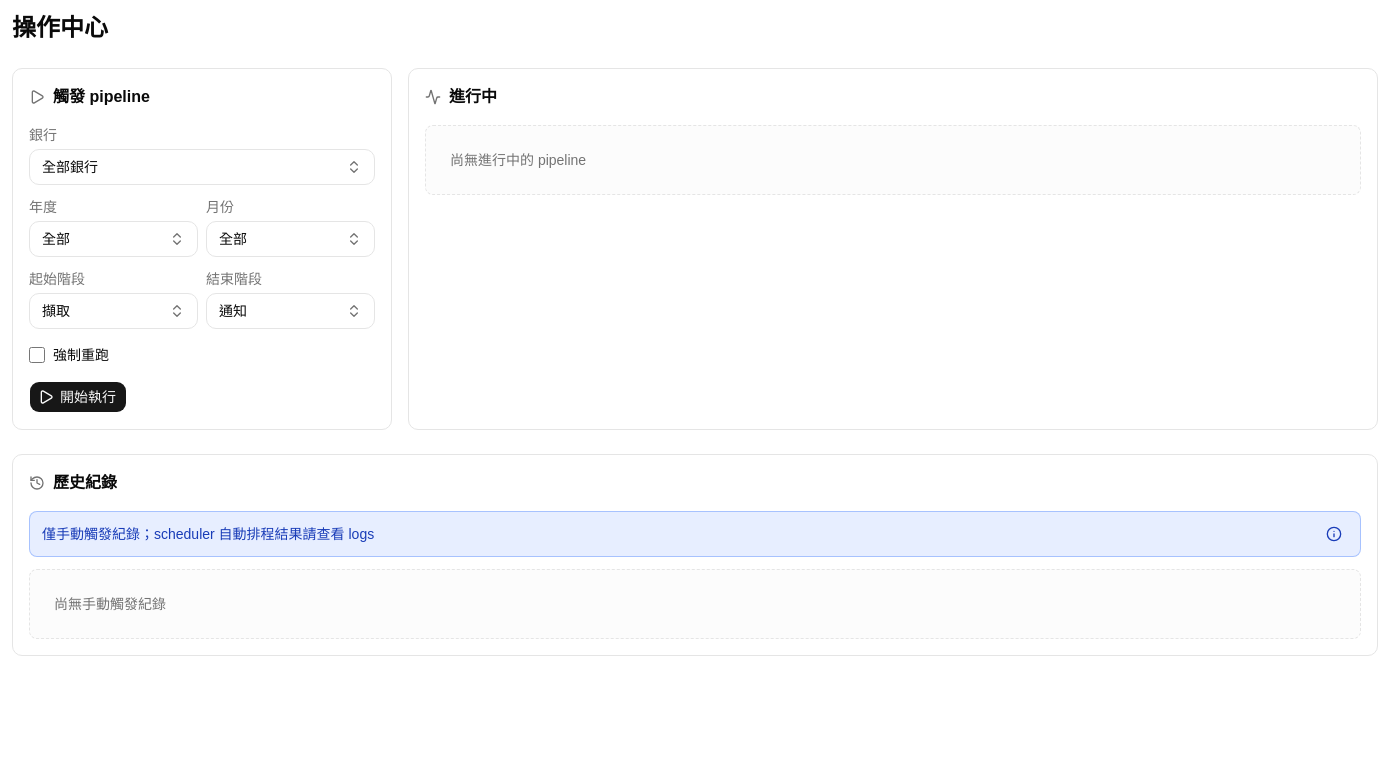
Test: OperationsPage coverage › falls back to no banks when the banks payload omits its data array
Click the dropdown labelled "銀行" at (70,167), box [29,149,375,185]
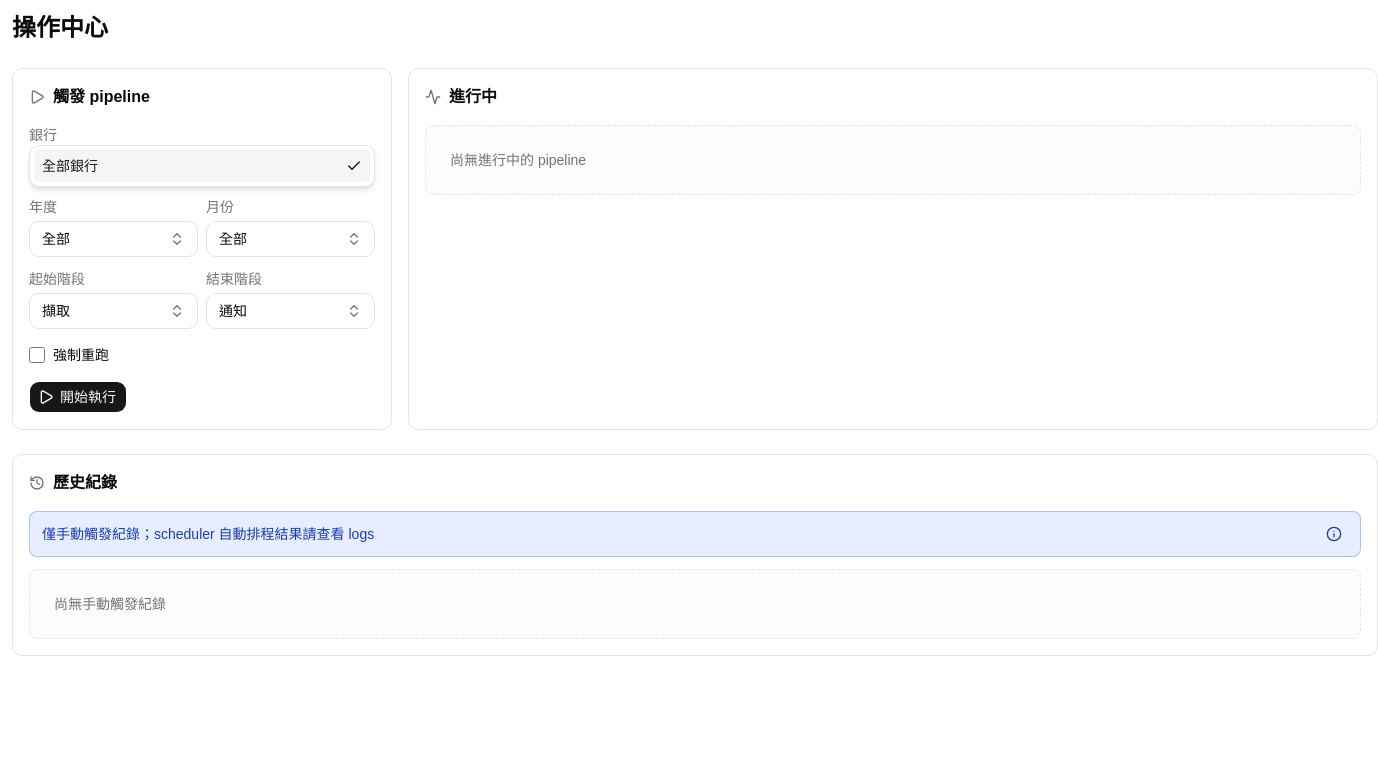
Now the option "全部銀行" is shown, box [34,150,370,182]
